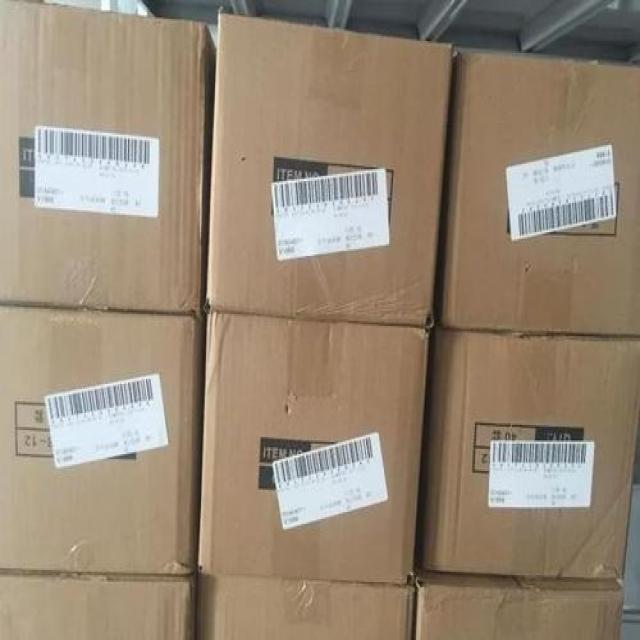box: (206, 13, 456, 327), (0, 1, 217, 320), (200, 313, 428, 587), (435, 49, 639, 338), (418, 331, 639, 581), (0, 305, 201, 576), (195, 573, 415, 638), (413, 573, 625, 638), (0, 573, 193, 638)
